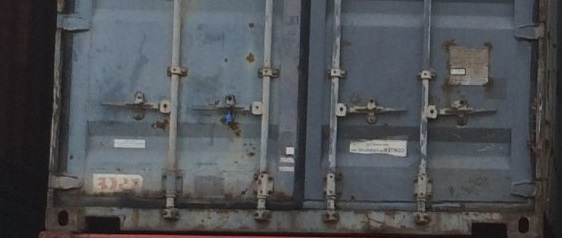container_door: (42, 1, 549, 233)
